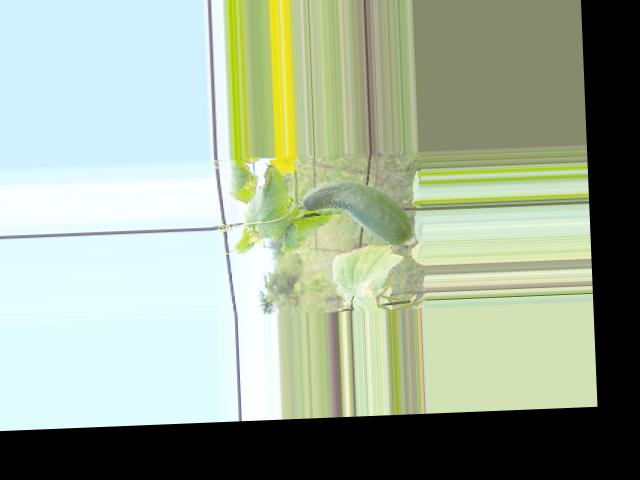cucumber: (300, 178, 412, 249)
